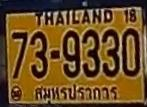0: (121, 27, 139, 76)
3: (30, 30, 48, 77), (82, 29, 99, 76), (102, 28, 118, 76)
7: (11, 31, 27, 78)
9: (62, 30, 79, 77)
SPK: (33, 82, 122, 106)
